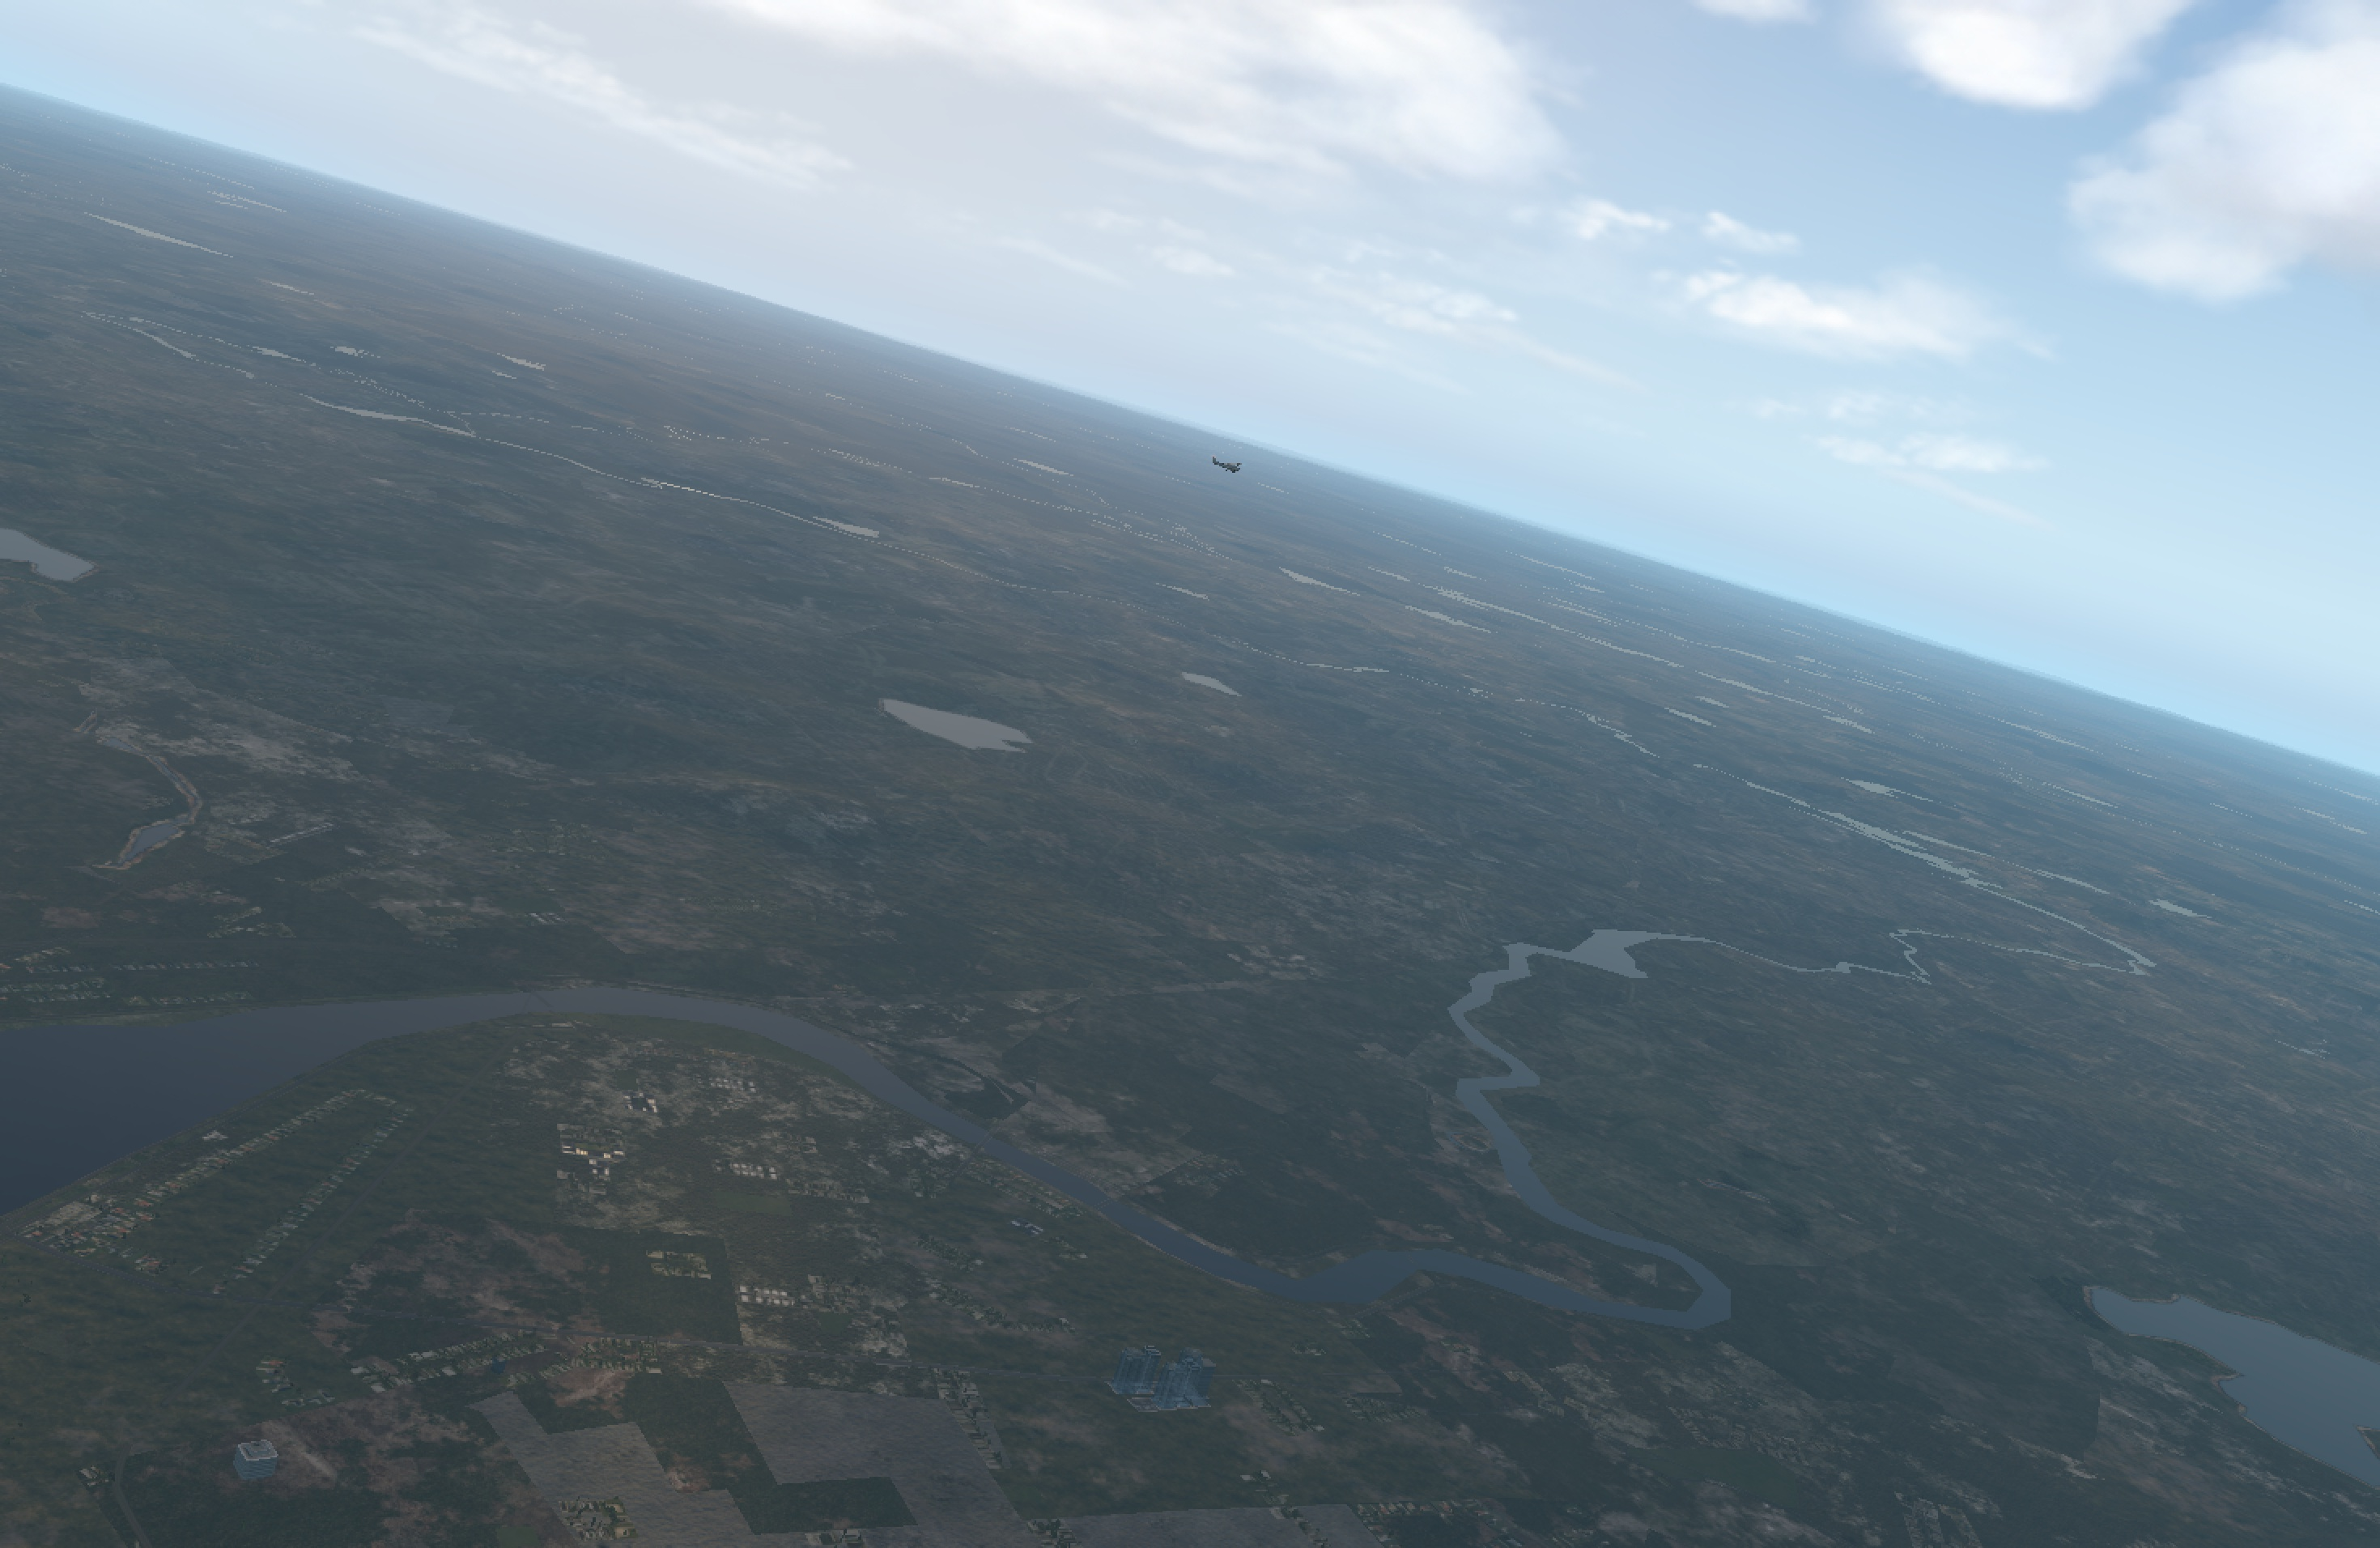aircraft: (1214, 460, 1247, 474)
